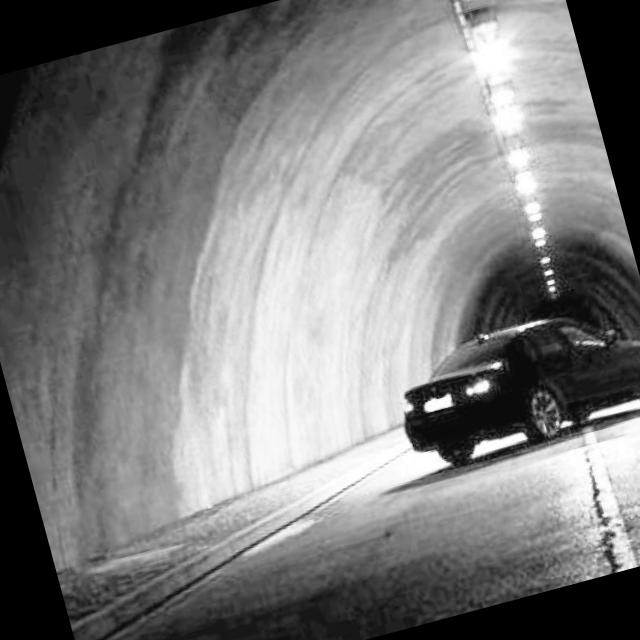Car: (362, 264, 640, 532)
